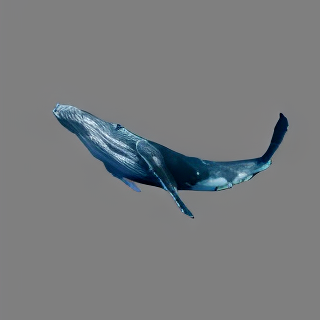Humpback whale: (50, 100, 290, 221)
